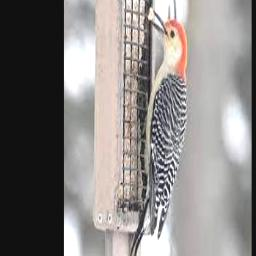Woodpecker: (128, 8, 187, 256)
